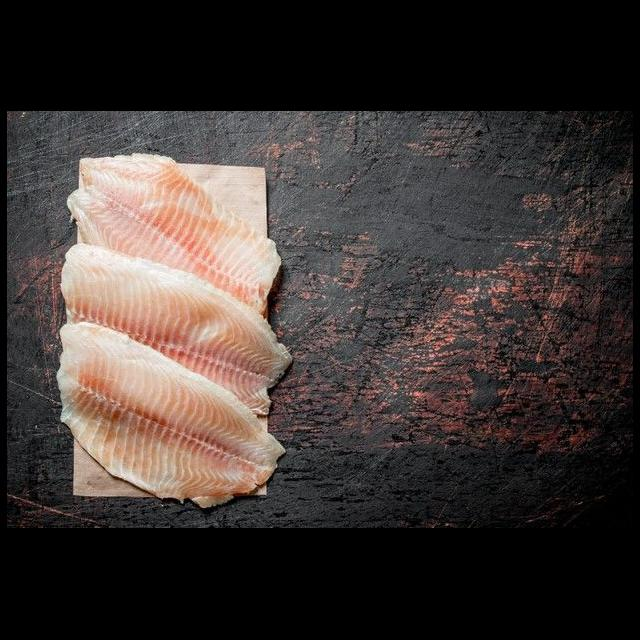fish: (52, 318, 290, 515)
